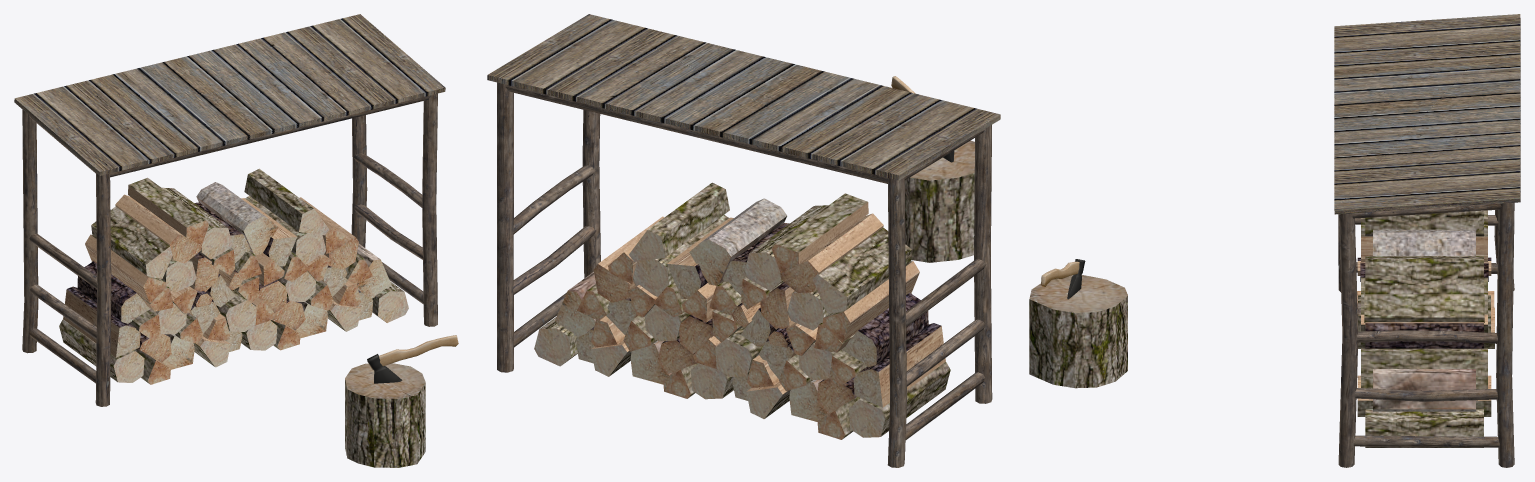
File: Canopy_with_wood.fbx
3 renders of one model, left to right at view 1: azimuth 30°, elevation 25°; view 2: azimuth 150°, elevation 25°; view 3: azimuth 270°, elevation 25°, orthographic. The views are drawn at different scales.
Visible parts, largest first — view 1: Firewood_004, Roof, Canopy_with_wood, Firewood_000, Axe; view 2: Firewood_004, Roof, Canopy_with_wood, Firewood_000; view 3: Roof, Firewood_004, Canopy_with_wood, Firewood_000, Axe.
Part boxes in pixels (box(x1,y1,x2,y2)): Firewood_004: box(59, 168, 408, 384); Roof: box(14, 14, 445, 175); Canopy_with_wood: box(22, 93, 437, 406); Firewood_000: box(345, 363, 425, 467); Axe: box(367, 335, 458, 383); Firewood_004: box(534, 182, 950, 439); Roof: box(487, 14, 1000, 180); Canopy_with_wood: box(497, 82, 992, 467); Firewood_000: box(904, 140, 974, 262); Roof: box(1334, 14, 1520, 214); Firewood_004: box(1357, 210, 1494, 447); Canopy_with_wood: box(1338, 202, 1514, 467); Firewood_000: box(1029, 275, 1127, 388); Axe: box(1041, 259, 1085, 299).
Size of the model in its own units: 260 by 179 by 294.
